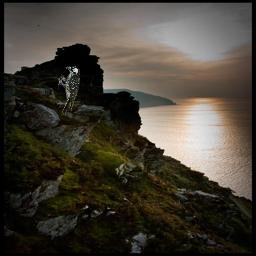Woodpecker: (58, 66, 80, 116)
